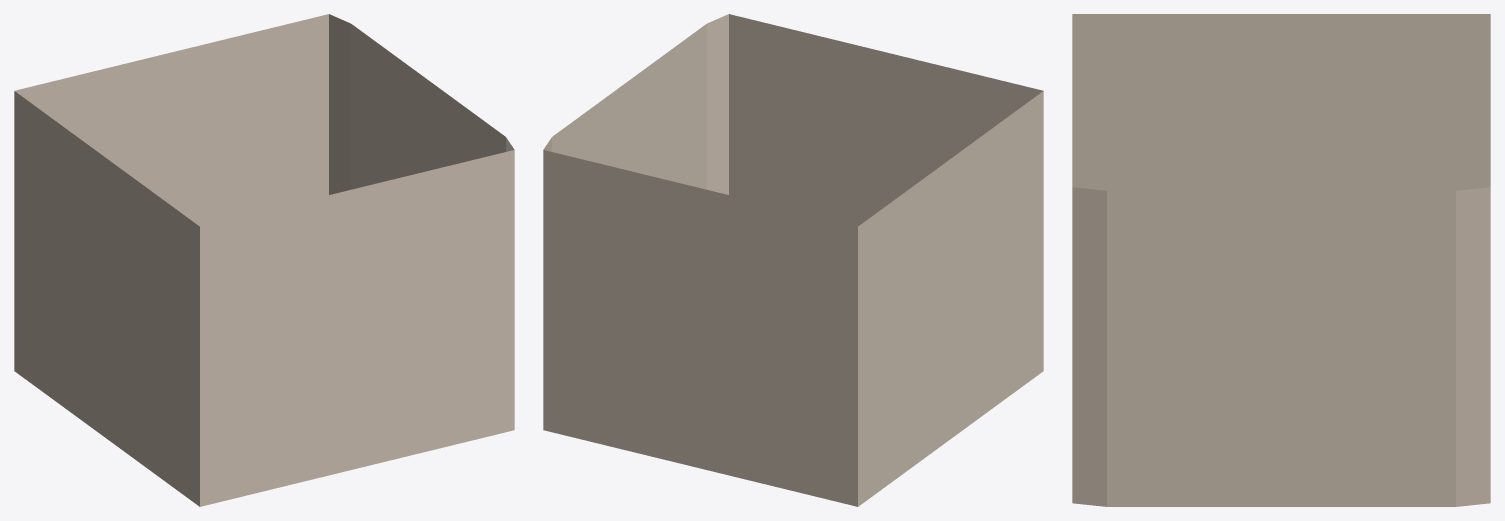
Rendered from Silo.obj.
3 views of the same model, side by side, from view 1: azimuth 30°, elevation 25°; view 2: azimuth 150°, elevation 25°; view 3: azimuth 270°, elevation 25° (orthographic). The views are drawn at different scales.
Parts seen in each view (by area): view 1: Silo; view 2: Silo; view 3: Silo.
Part boxes in pixels (x1,y1,x2,y2): Silo: [14, 14, 514, 506]; Silo: [543, 14, 1043, 506]; Silo: [1072, 14, 1490, 506].
Bounding box in the file's own units: 12 × 10 × 12.
